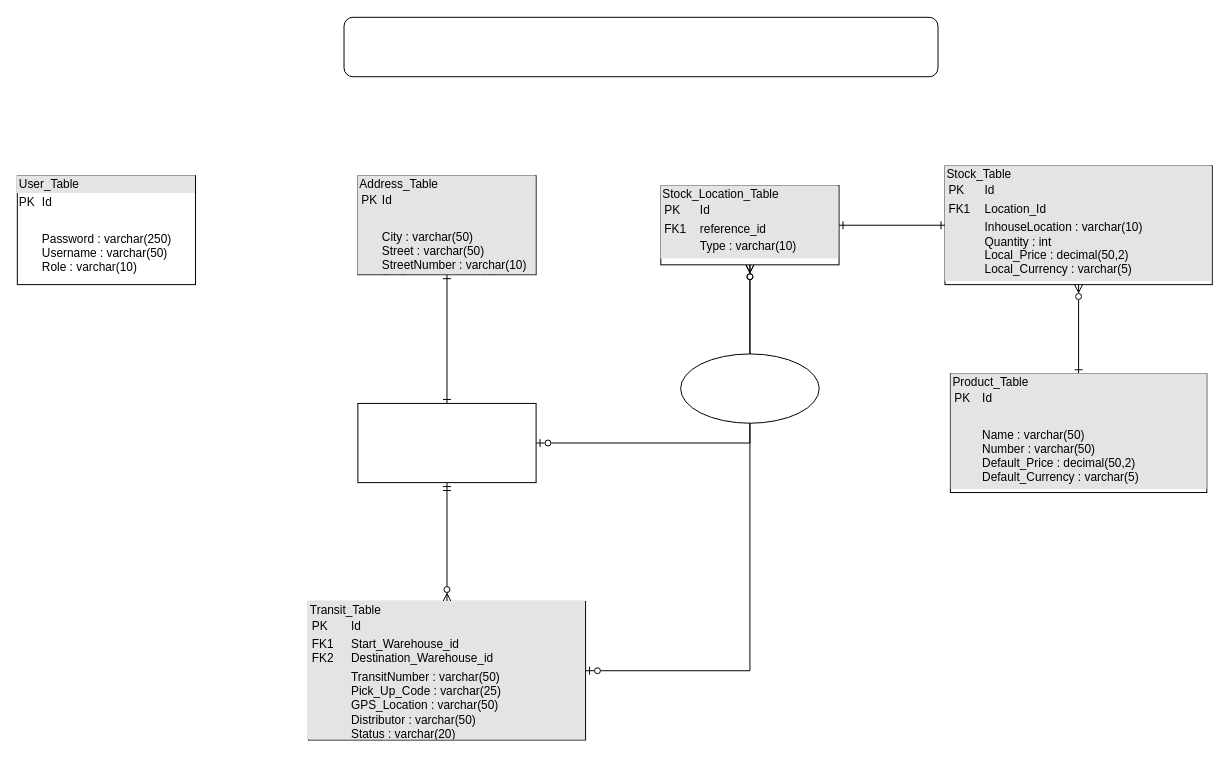
Some shapes in this 1230 by 757 pixel diagram are drawn without their labels. Here are the shapes that lost their labels. From the top down, the centre of each, then its label:
At (640,46): "Database Diagram StockFlow".
At (749,388): "Has Reference to EITHER Warehouse or Transit".
At (446,442): "Warehouse_Table PK Id FK1 Address_Id".
